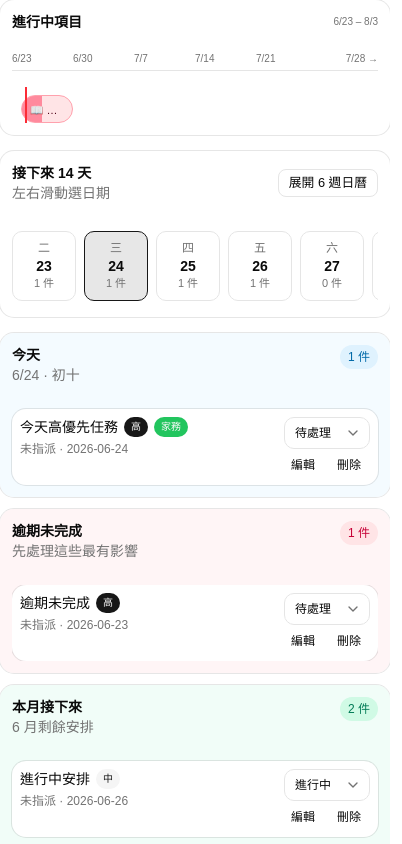
it: DashboardPage › keeps the full month calendar collapsed on mobile until requested
Expected: the element named "行動日期條" is shown, left=0, top=151, right=390, bottom=317
Click the button "展開 6 週日曆" at point(328, 183), box left=278, top=169, right=378, bottom=197
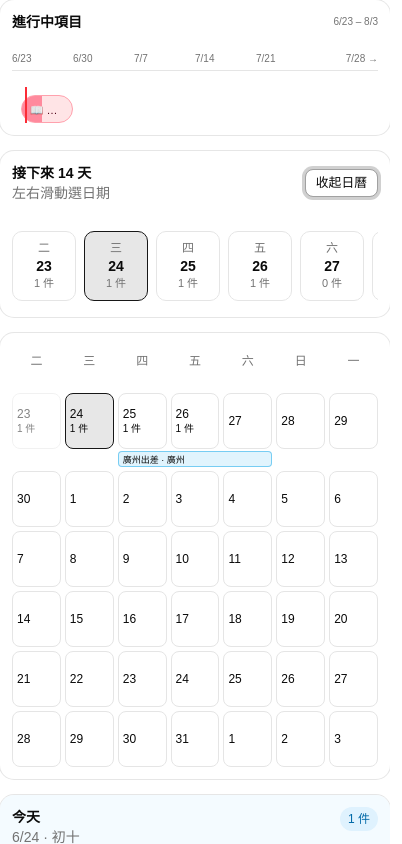
Now the element named "手機 6 週日曆" is shown, box left=0, top=333, right=390, bottom=779
